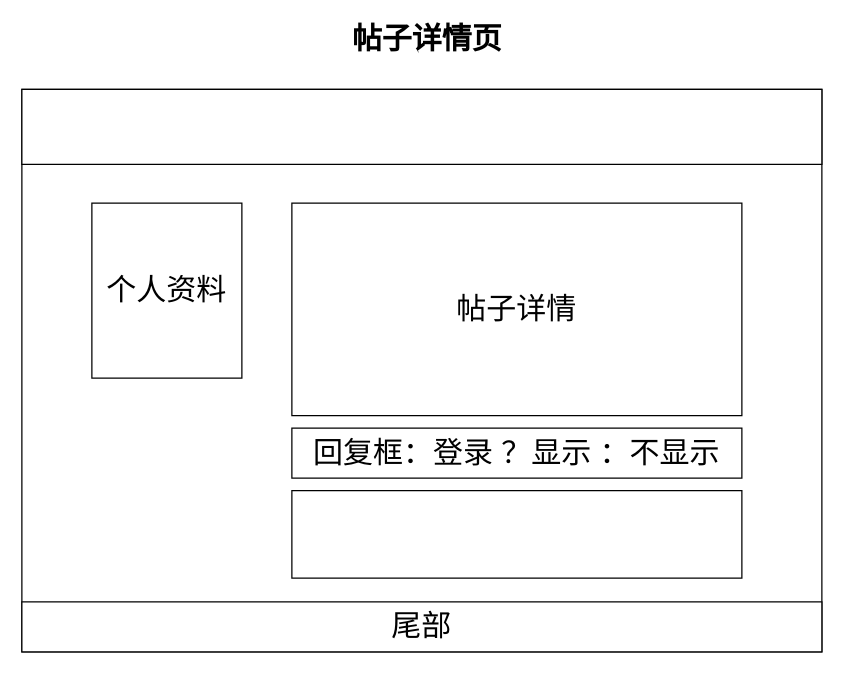
Image size: 844x674. Some labels were removed from this diagram. Here are the shapes that lost their labels. From the top down, the centre of each, then its label:
At point 421,126: "导航栏".
At point 516,533: "回复列表".
